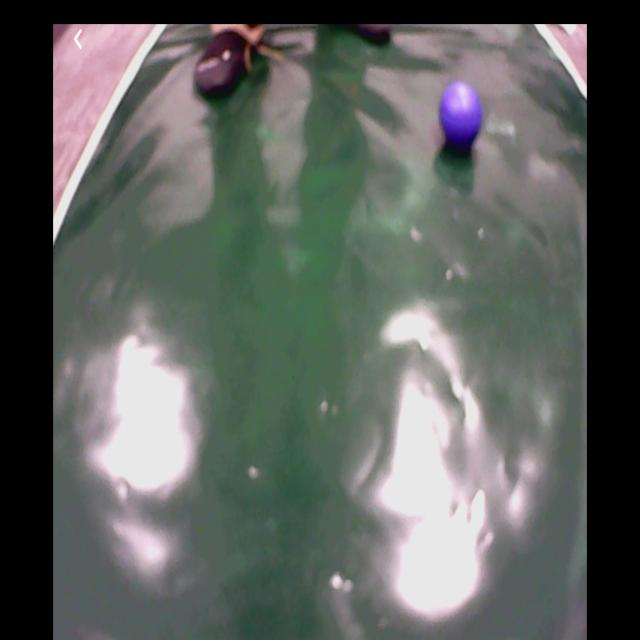ball: (439, 83, 482, 146)
